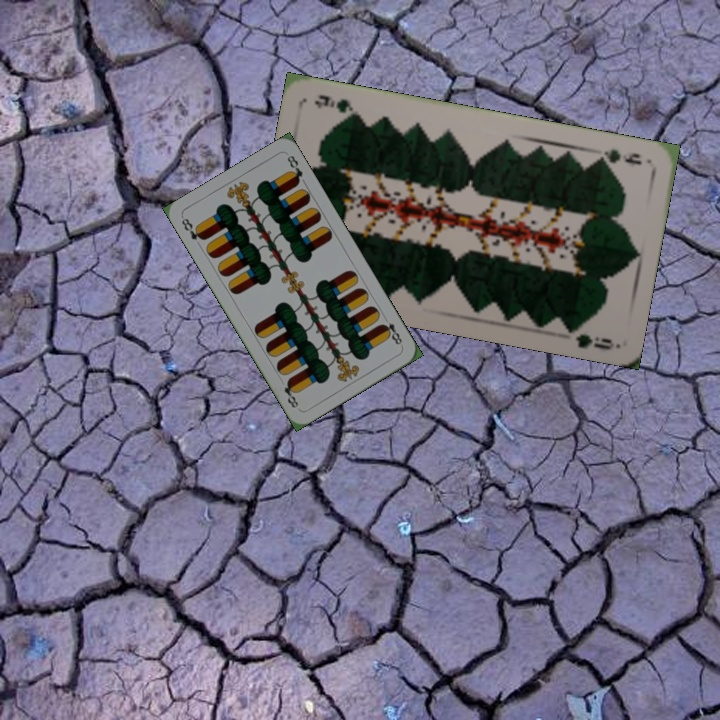E8: (377, 312, 405, 349), (177, 213, 207, 243)
G9: (591, 145, 644, 167)
